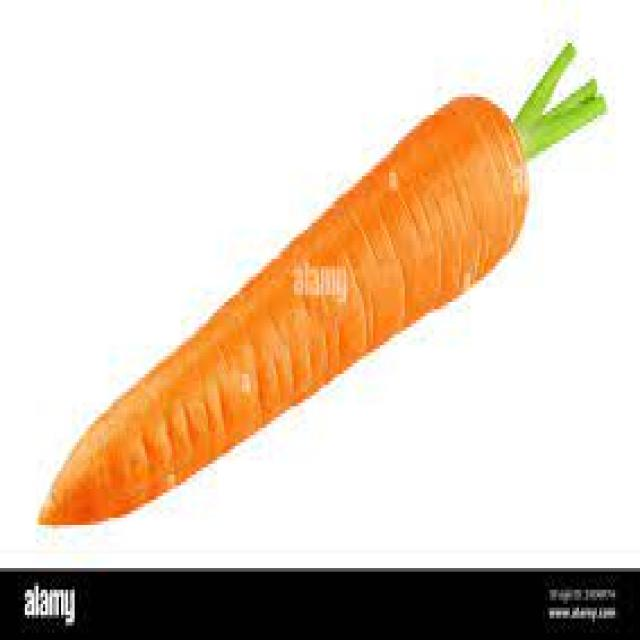carrot: (34, 78, 534, 542)
